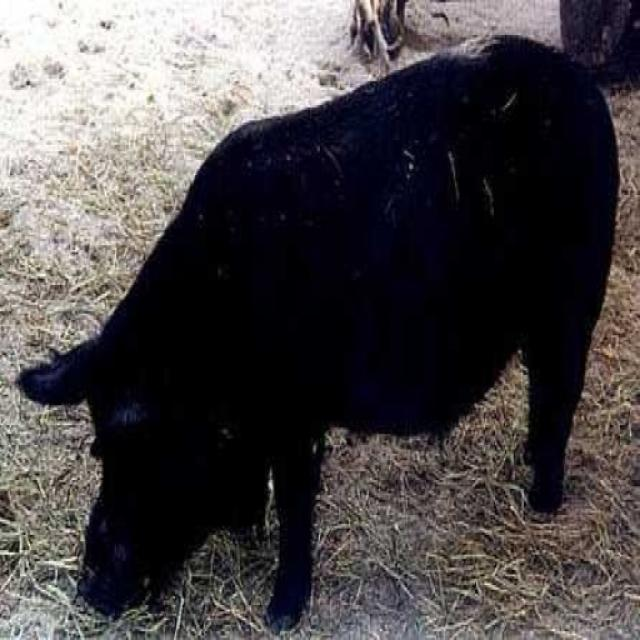pig: (32, 39, 640, 590)
